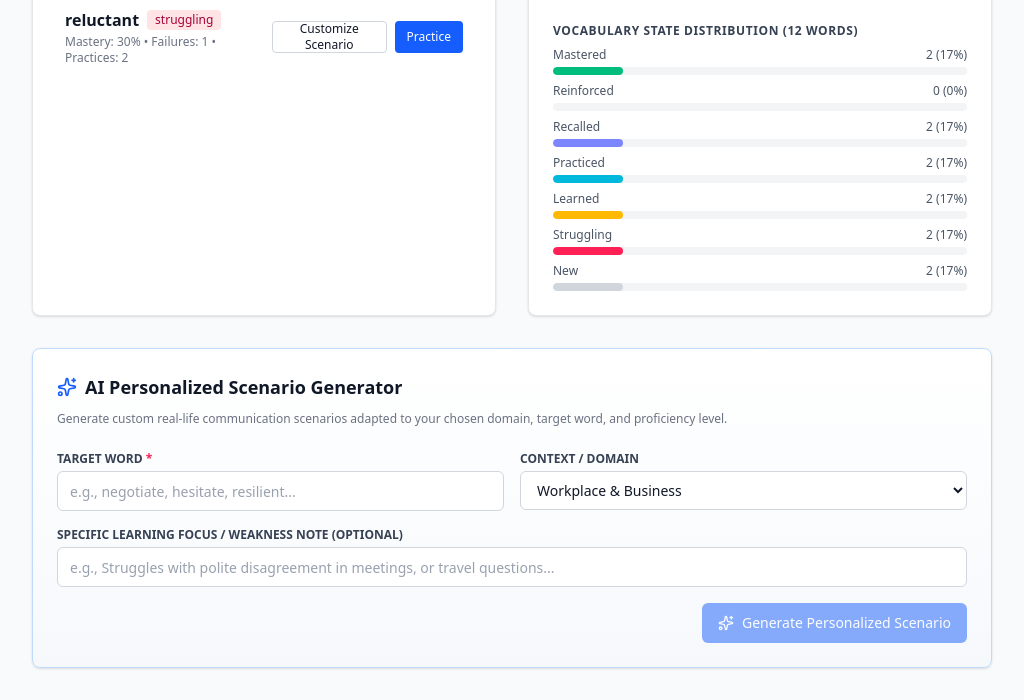
PersonalizationPage › generates a personalized scenario via interactive form
This screenshot has width=1024, height=700.
(page scrolled)
Check: the heading "AI Personalized Scenario Generator" is shown, box [57, 375, 402, 399]
In the field with placeholder "e.g., negotiate, hesitate, resilient...": (280, 491) [57, 471, 504, 511], type "hesitate"
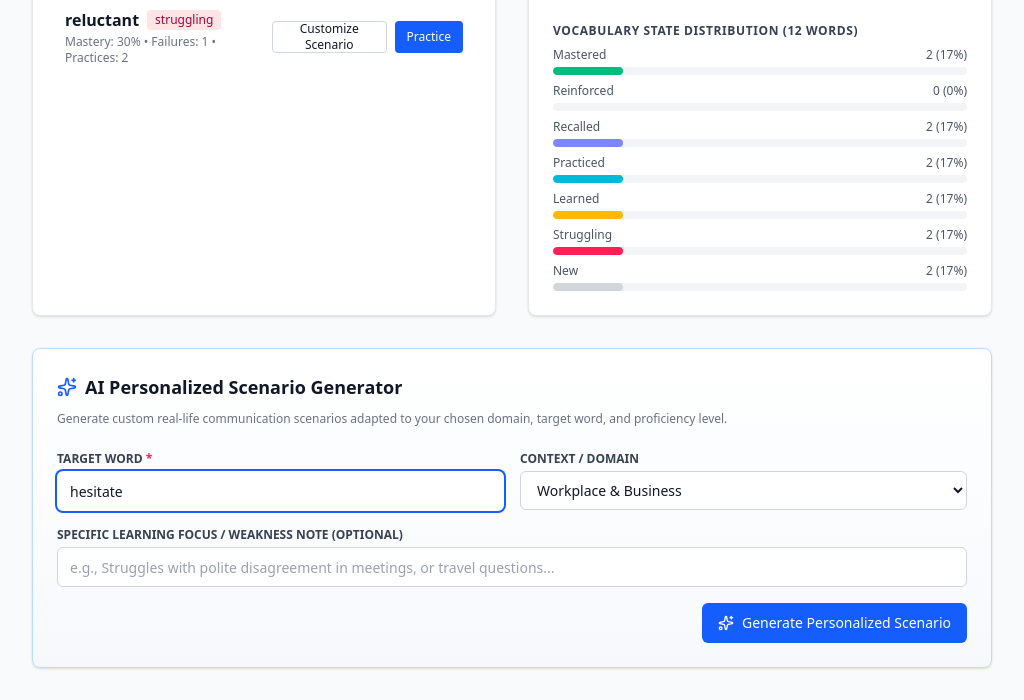
Click the button "Generate Personalized Scenario": click(834, 623) [702, 603, 967, 643]
(page scrolled)
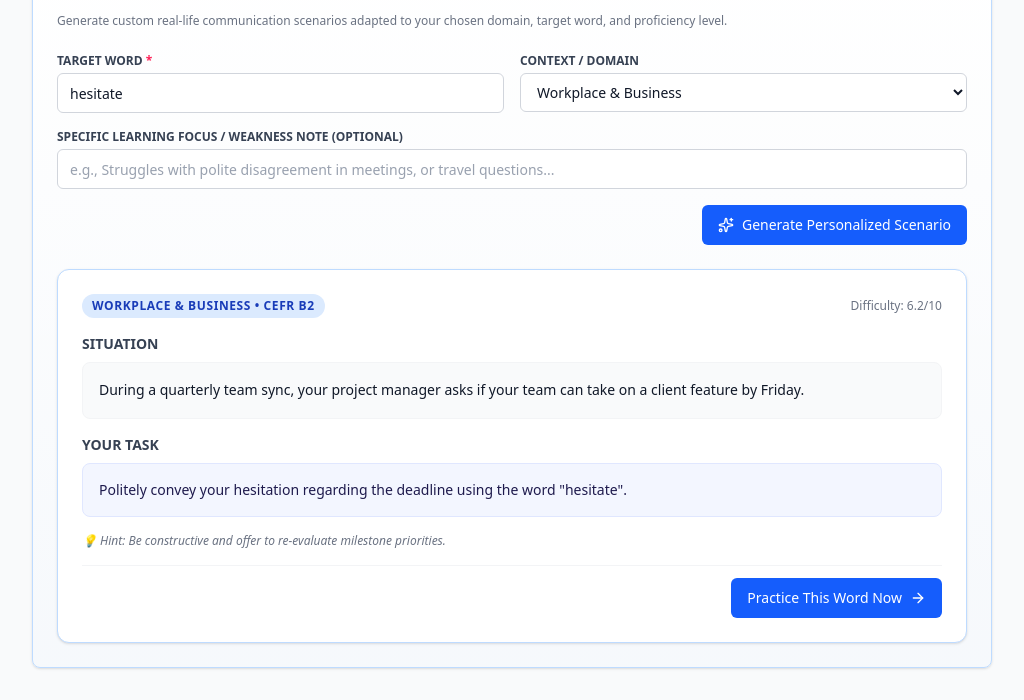
Check: the text "During a quarterly team sync" is shown, box [99, 380, 804, 399]
Check: the text "Politely convey your hesitation" is shown, box [99, 480, 627, 499]
Check: the text "Hint: Be constructive" is shown, box [82, 532, 446, 549]
